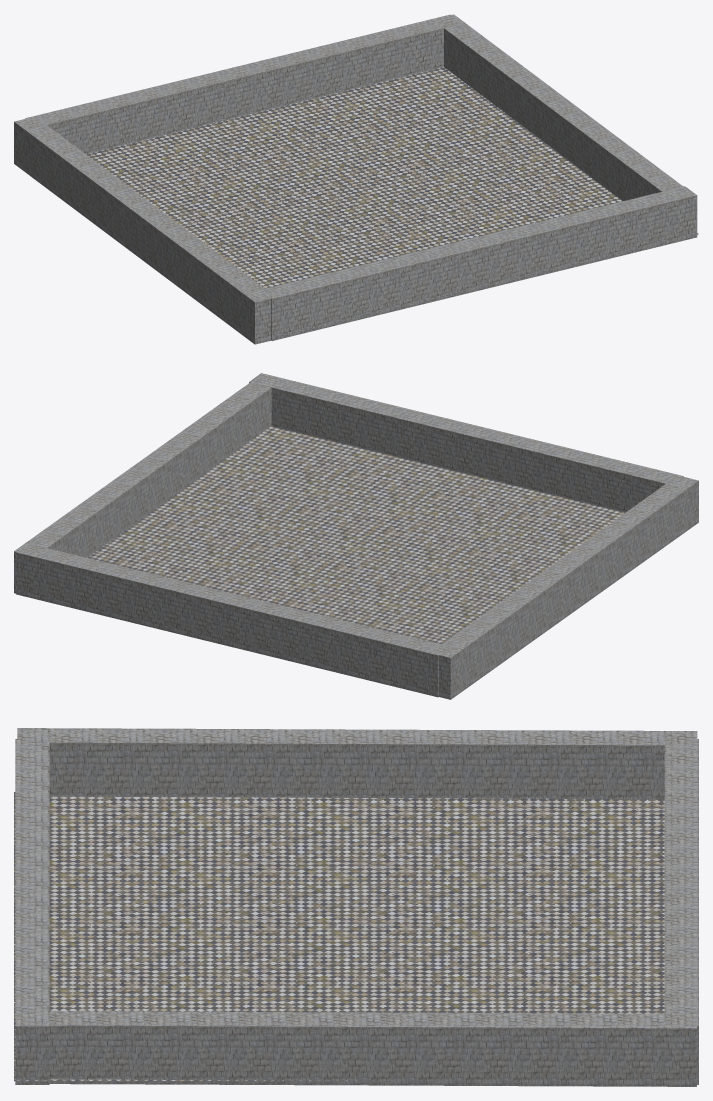
The model's file is Maze_Test_1.glb.
The picture shows the model from 3 angles, top to bottom: view 1: azimuth 30°, elevation 25°; view 2: azimuth 150°, elevation 25°; view 3: azimuth 270°, elevation 25°; orthographic projection. The views are drawn at different scales.
Visible parts, largest first — view 1: Plane; view 2: Plane; view 3: Plane.
Boxes of the visible parts, x1,y1,x2,y2 form: Plane: [14, 14, 698, 344]; Plane: [14, 373, 698, 699]; Plane: [14, 728, 698, 1086].
Size of the model in its own units: 208 by 18.89 by 200.
Materials: 2 (2 with a texture image).
